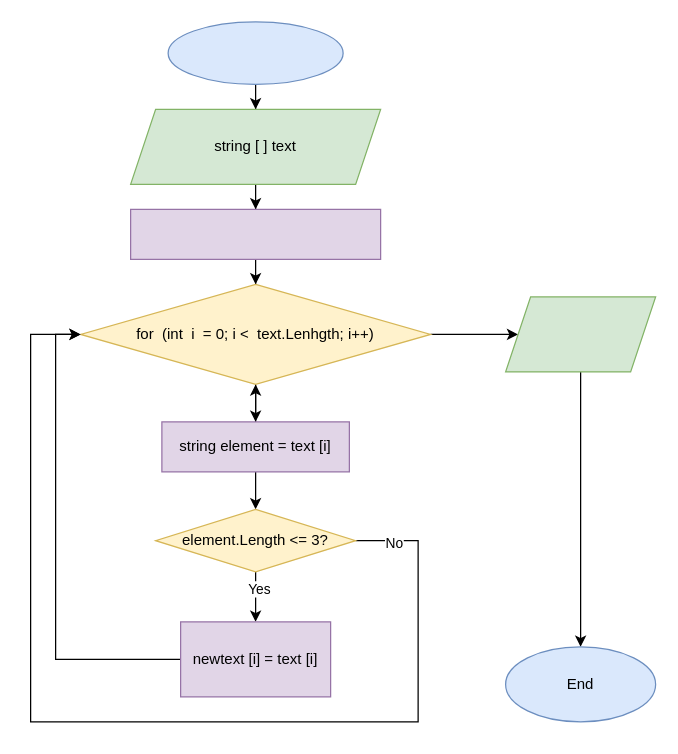
Image size: 678x754. Some labels were removed from this diagram. The centre of each missing label's shape, as x and y in pixels:
"return newtext" goes at [580,334].
"Start" goes at [255,52].
"string [ ] newtext = new string [ ]" goes at [255,233].
